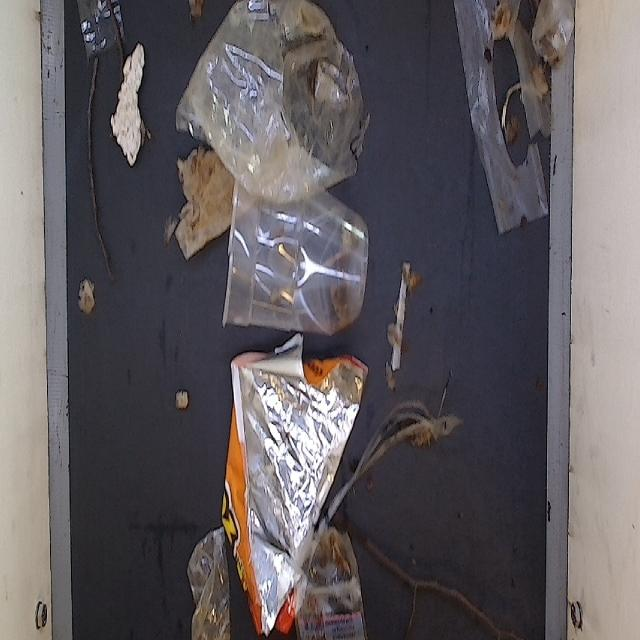food_wrapping: (210, 342, 358, 630)
plastic_films: (171, 0, 386, 196), (449, 0, 592, 244), (202, 154, 374, 327), (289, 530, 364, 640), (186, 539, 240, 640), (78, 0, 130, 68)
styrofoam: (111, 33, 153, 184)
